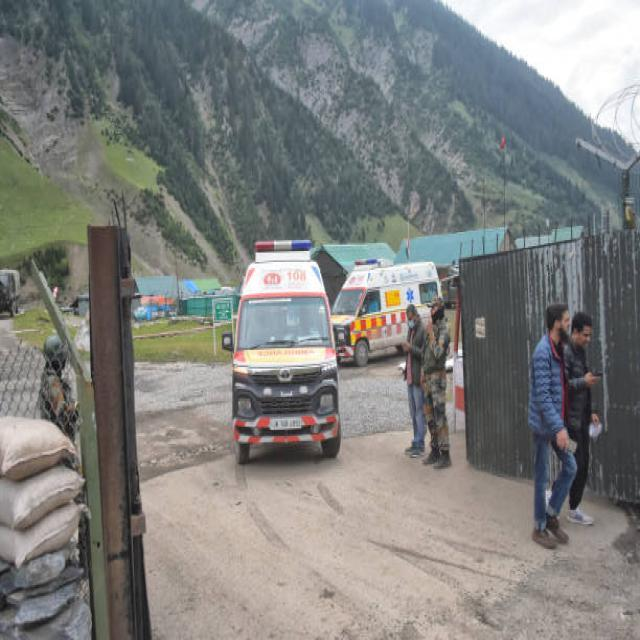ambulance: (228, 238, 344, 471), (336, 262, 448, 355)
